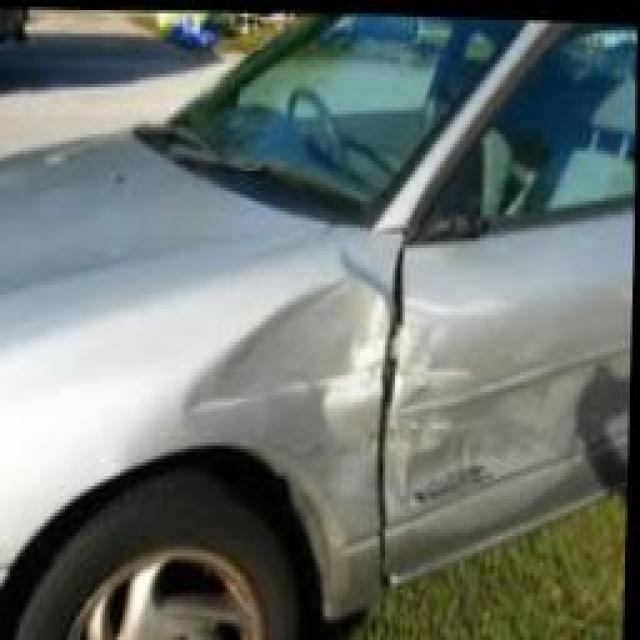rapairable: (205, 327, 401, 487), (394, 338, 503, 531), (393, 476, 401, 485)
